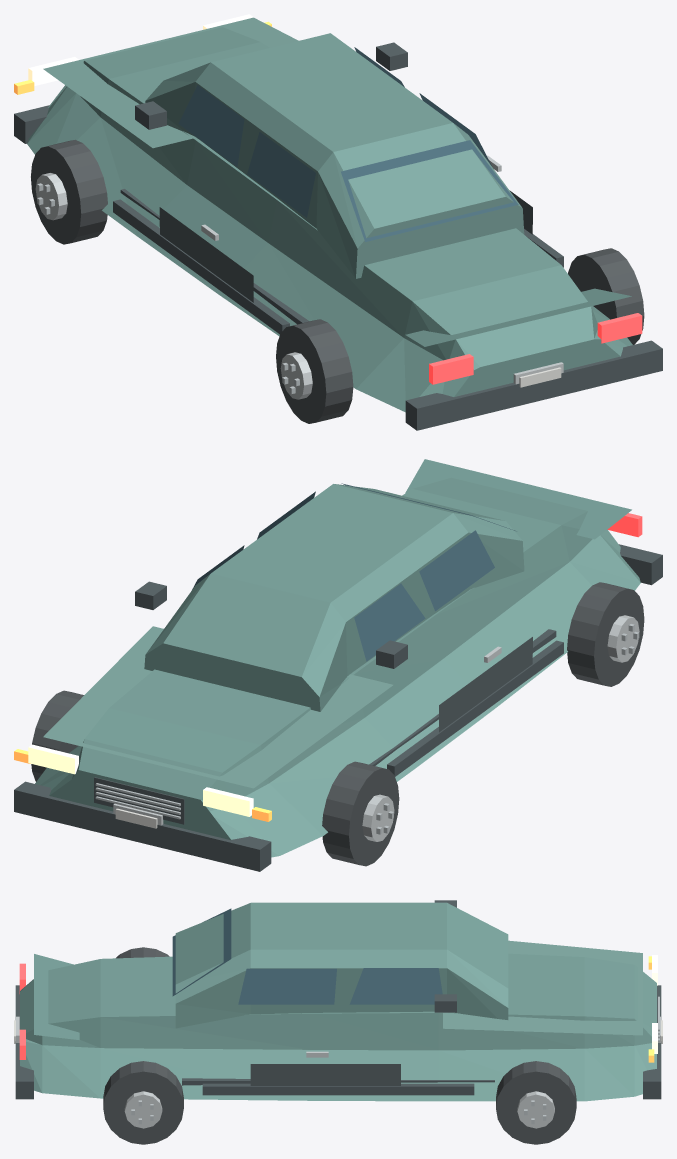
File: VehicleModern_Sedan.glb
3 renders of one model, top to bottom at view 1: azimuth 30°, elevation 25°; view 2: azimuth 150°, elevation 25°; view 3: azimuth 270°, elevation 25°, orthographic. The views are drawn at different scales.
Visible parts, largest first — view 1: BodyPaint, CabinPaint, RearBumper, StaticWheelTire_-1_Rear, StaticWheelTire_-1_Front, Hood, StaticWheelTire_1_Rear, WindowGlassRear-1, WindowGlassSide-1, SideTrim-1, DoorSeam-1, RearWindow (+9 smaller); view 2: BodyPaint, CabinPaint, Hood, FrontBumper, StaticWheelTire_-1_Rear, StaticWheelTire_-1_Front, Trunk, WindowGlassRear-1, WindowGlassSide-1, SideTrim-1, DoorSeam-1, StaticWheelTire_1_Front (+9 smaller); view 3: BodyPaint, CabinPaint, Hood, StaticWheelTire_1_Front, StaticWheelTire_1_Rear, WindowGlassRear1, DoorSeam1, SideTrim1, WindowGlassSide1, Trunk, StaticWheelHub_1_Rear, StaticWheelHub_1_Front (+6 smaller).
Boxes of the visible parts, box(x1,y1,x2,y2) form: BodyPaint: box(27, 27, 632, 412); CabinPaint: box(145, 33, 524, 278); RearBumper: box(405, 340, 662, 430); StaticWheelTire_-1_Rear: box(276, 319, 353, 423); StaticWheelTire_-1_Front: box(31, 139, 107, 244); Hood: box(43, 17, 298, 148); StaticWheelTire_1_Rear: box(568, 248, 644, 344); WindowGlassRear-1: box(247, 132, 315, 217); WindowGlassSide-1: box(178, 85, 244, 166); SideTrim-1: box(113, 199, 289, 334); DoorSeam-1: box(159, 207, 253, 302); RearWindow: box(341, 140, 518, 241); BodyPaint: box(35, 477, 640, 857); CabinPaint: box(144, 484, 524, 711); Hood: box(43, 626, 392, 788); FrontBumper: box(14, 781, 271, 871); StaticWheelTire_-1_Rear: box(567, 582, 644, 686); StaticWheelTire_-1_Front: box(322, 761, 399, 866); Trunk: box(405, 459, 631, 539); WindowGlassRear-1: box(419, 530, 494, 611); WindowGlassSide-1: box(354, 583, 425, 661); SideTrim-1: box(387, 640, 563, 776); DoorSeam-1: box(439, 637, 532, 732); StaticWheelTire_1_Front: box(31, 690, 83, 781); BodyPaint: box(20, 953, 656, 1101); CabinPaint: box(175, 902, 508, 1028); Hood: box(443, 940, 642, 1035); StaticWheelTire_1_Front: box(496, 1061, 576, 1144); StaticWheelTire_1_Rear: box(103, 1061, 183, 1144); WindowGlassRear1: box(238, 968, 336, 1004); DoorSeam1: box(250, 1064, 400, 1085); SideTrim1: box(202, 1083, 474, 1095); WindowGlassSide1: box(349, 968, 442, 1004); Trunk: box(34, 954, 79, 1039); StaticWheelHub_1_Rear: box(124, 1091, 162, 1128); StaticWheelHub_1_Front: box(517, 1091, 554, 1128).
Bounding box in the file's own units: 2.28 × 1.24 × 4.66.
